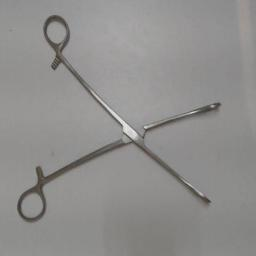Sponge Forceps: (14, 10, 224, 226)
